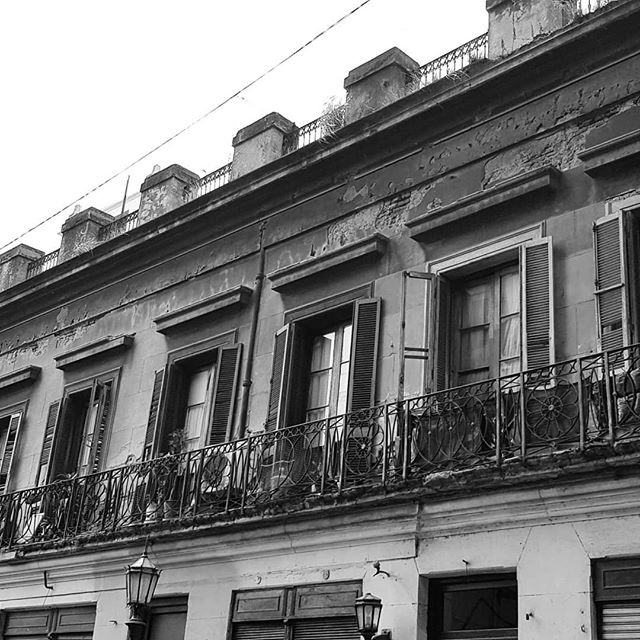building: (14, 145, 640, 640)
window: (447, 245, 524, 401), (286, 301, 359, 443), (163, 358, 219, 463)
